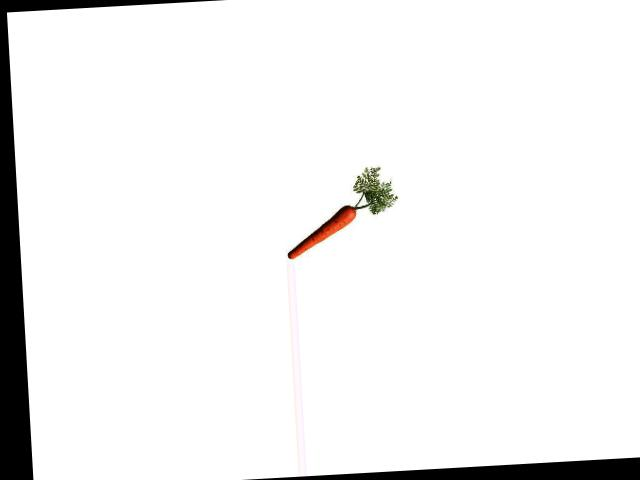carrot: (281, 202, 366, 261)
